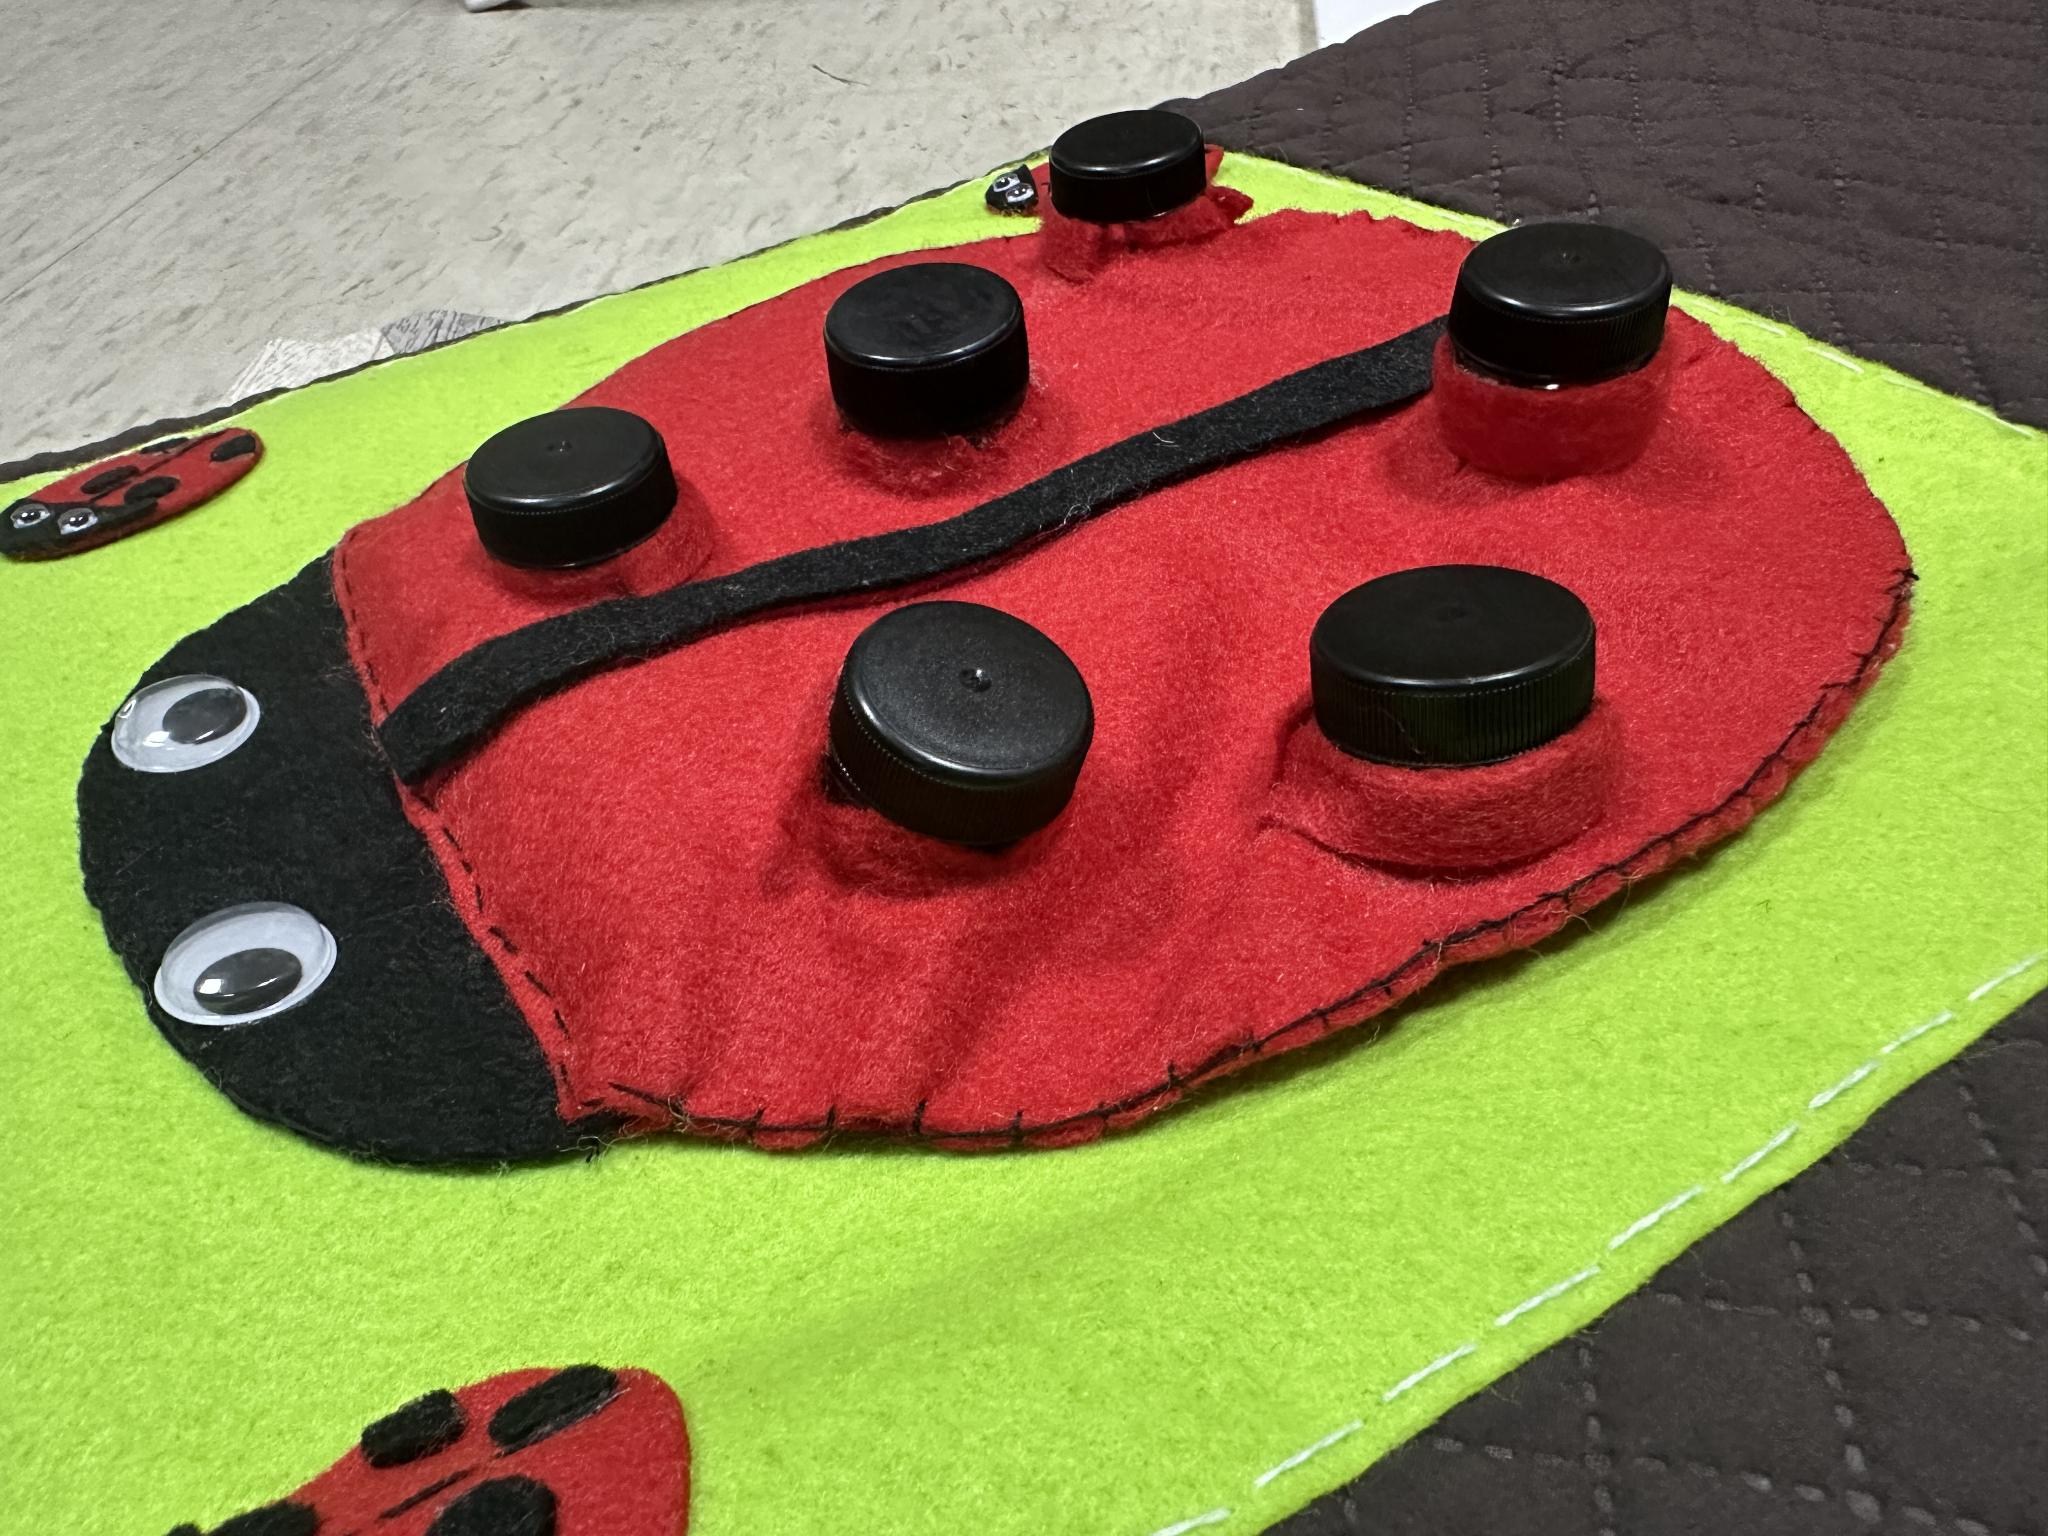cap_ng: (811, 597, 1127, 905)
cap_ok: (1266, 549, 1640, 874), (1422, 216, 1700, 503), (805, 257, 1066, 502), (447, 402, 719, 618), (1045, 103, 1227, 278)
